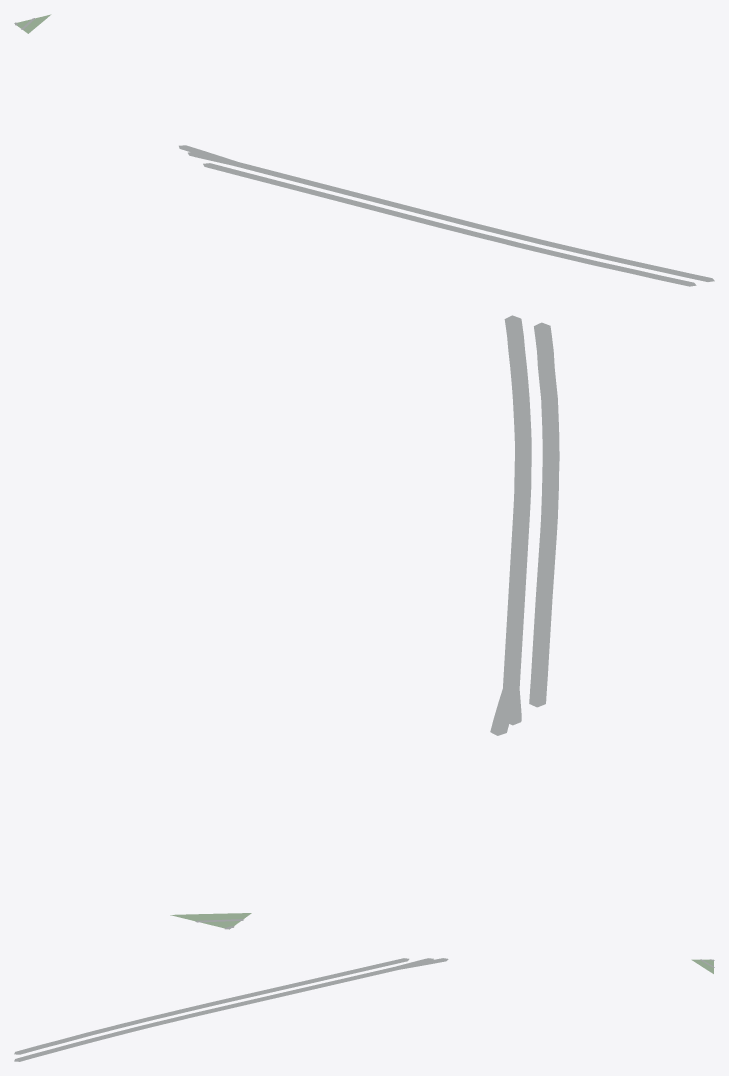
File: -8_-6-known-fine.glb
3 renders of one model, top to bottom at view 1: azimuth 30°, elevation 25°; view 2: azimuth 150°, elevation 25°; view 3: azimuth 270°, elevation 25°, orthographic. The views are drawn at different scales.
Size of the model in its own units: 351 by 0.1 by 1001.
